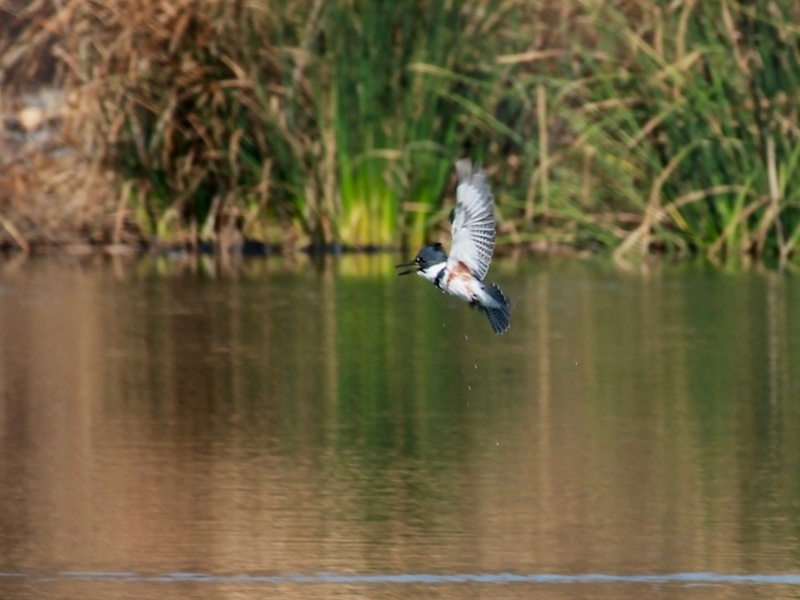kingfisher: (394, 170, 513, 337)
